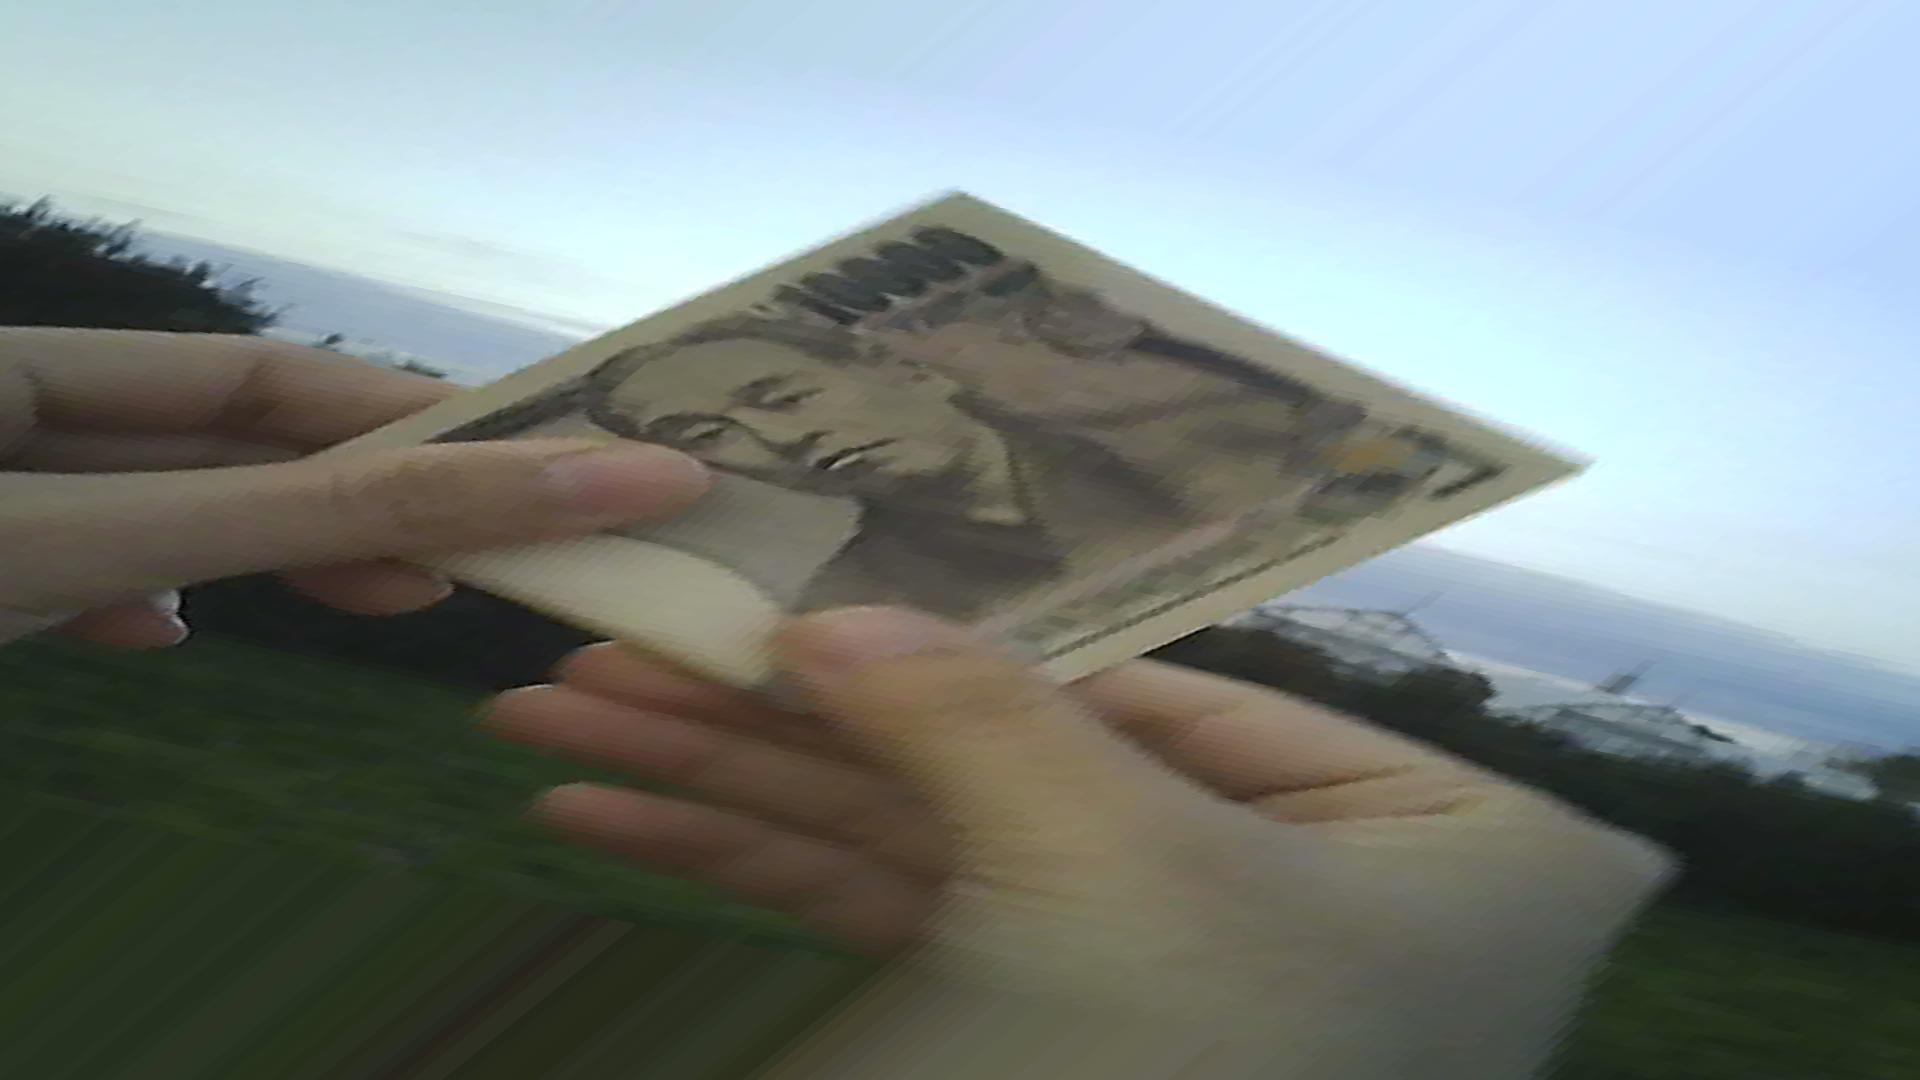10,000 Yen: (326, 207, 1552, 716)
